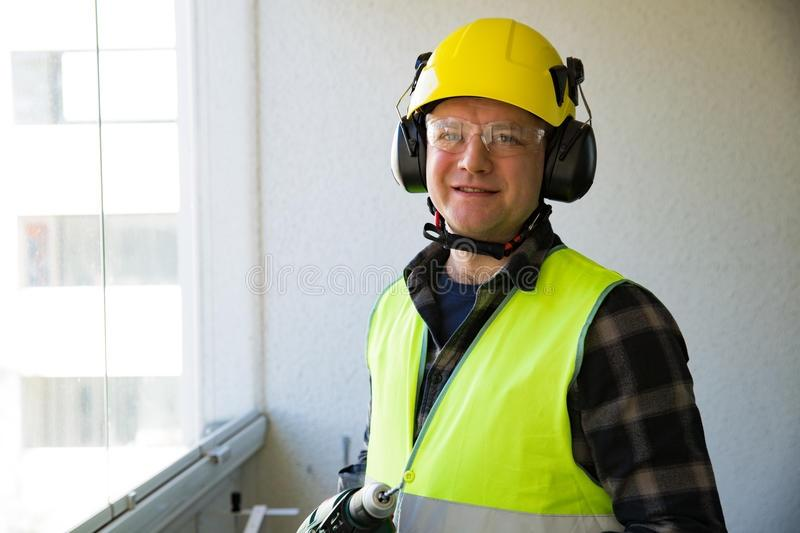helmet: (397, 13, 582, 131)
wear: (358, 261, 728, 533)
